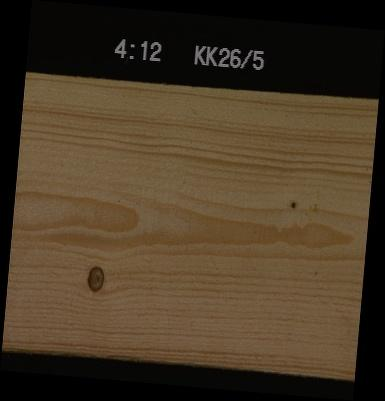dry_knot: (84, 263, 105, 292)
small_knot: (286, 197, 298, 211)
